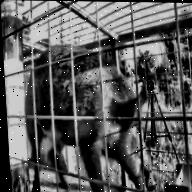boar: (17, 47, 160, 192)
